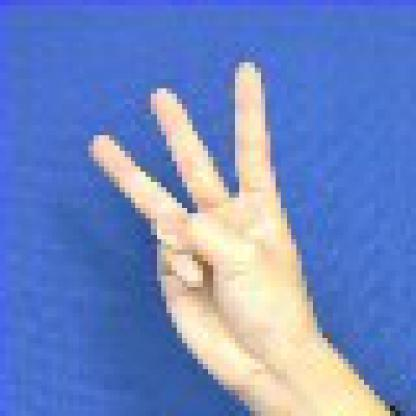three: (81, 55, 320, 392)
